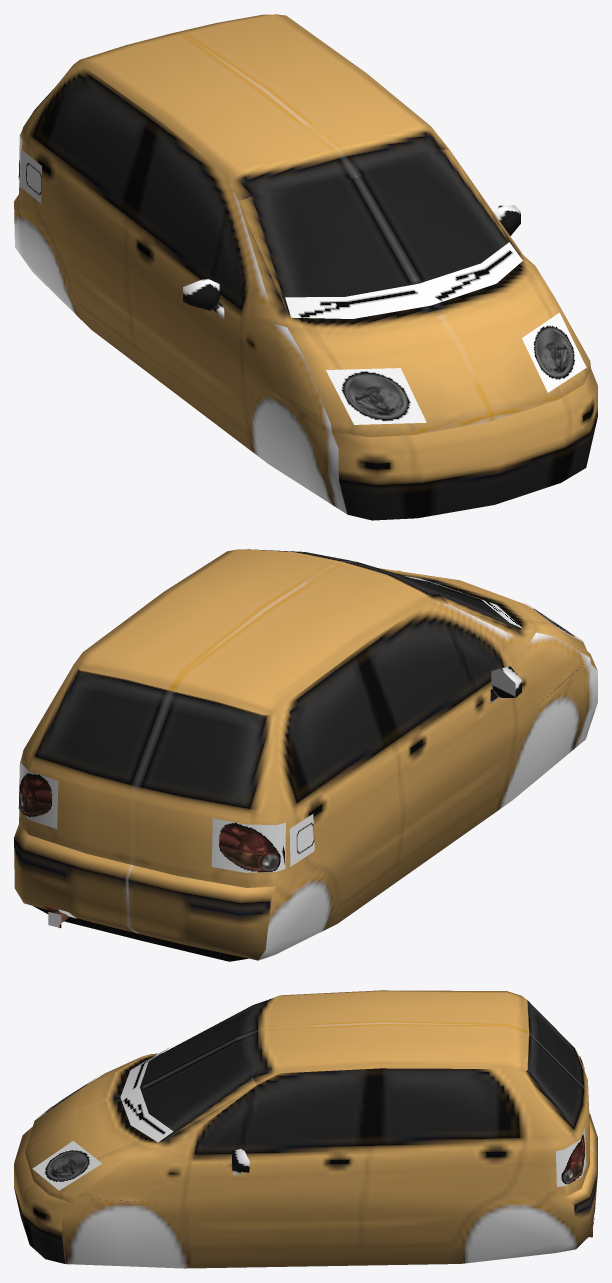
The model's file is Vehicles_CarMatiz_Body.fbx.
3 renders of one model, top to bottom at view 1: azimuth 30°, elevation 25°; view 2: azimuth 150°, elevation 25°; view 3: azimuth 270°, elevation 25°, orthographic. The views are drawn at different scales.
Visible parts, largest first — view 1: Vehicles_CarMatiz_Body; view 2: Vehicles_CarMatiz_Body; view 3: Vehicles_CarMatiz_Body.
Boxes of the visible parts, x1=… form: Vehicles_CarMatiz_Body: x1=14, y1=14, x2=597, y2=520; Vehicles_CarMatiz_Body: x1=14, y1=549, x2=597, y2=961; Vehicles_CarMatiz_Body: x1=14, y1=990, x2=597, y2=1268.
Size of the model in its own units: 3.58 by 2.63 by 6.94.
